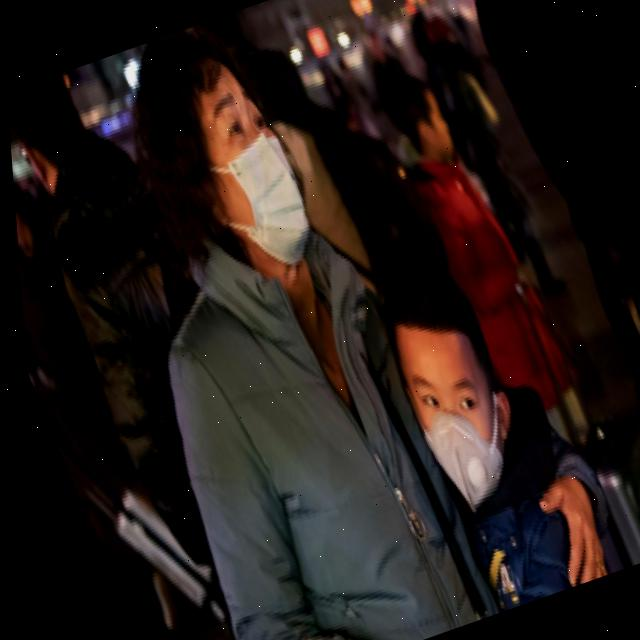Mask: (186, 133, 337, 285), (403, 380, 528, 509)
